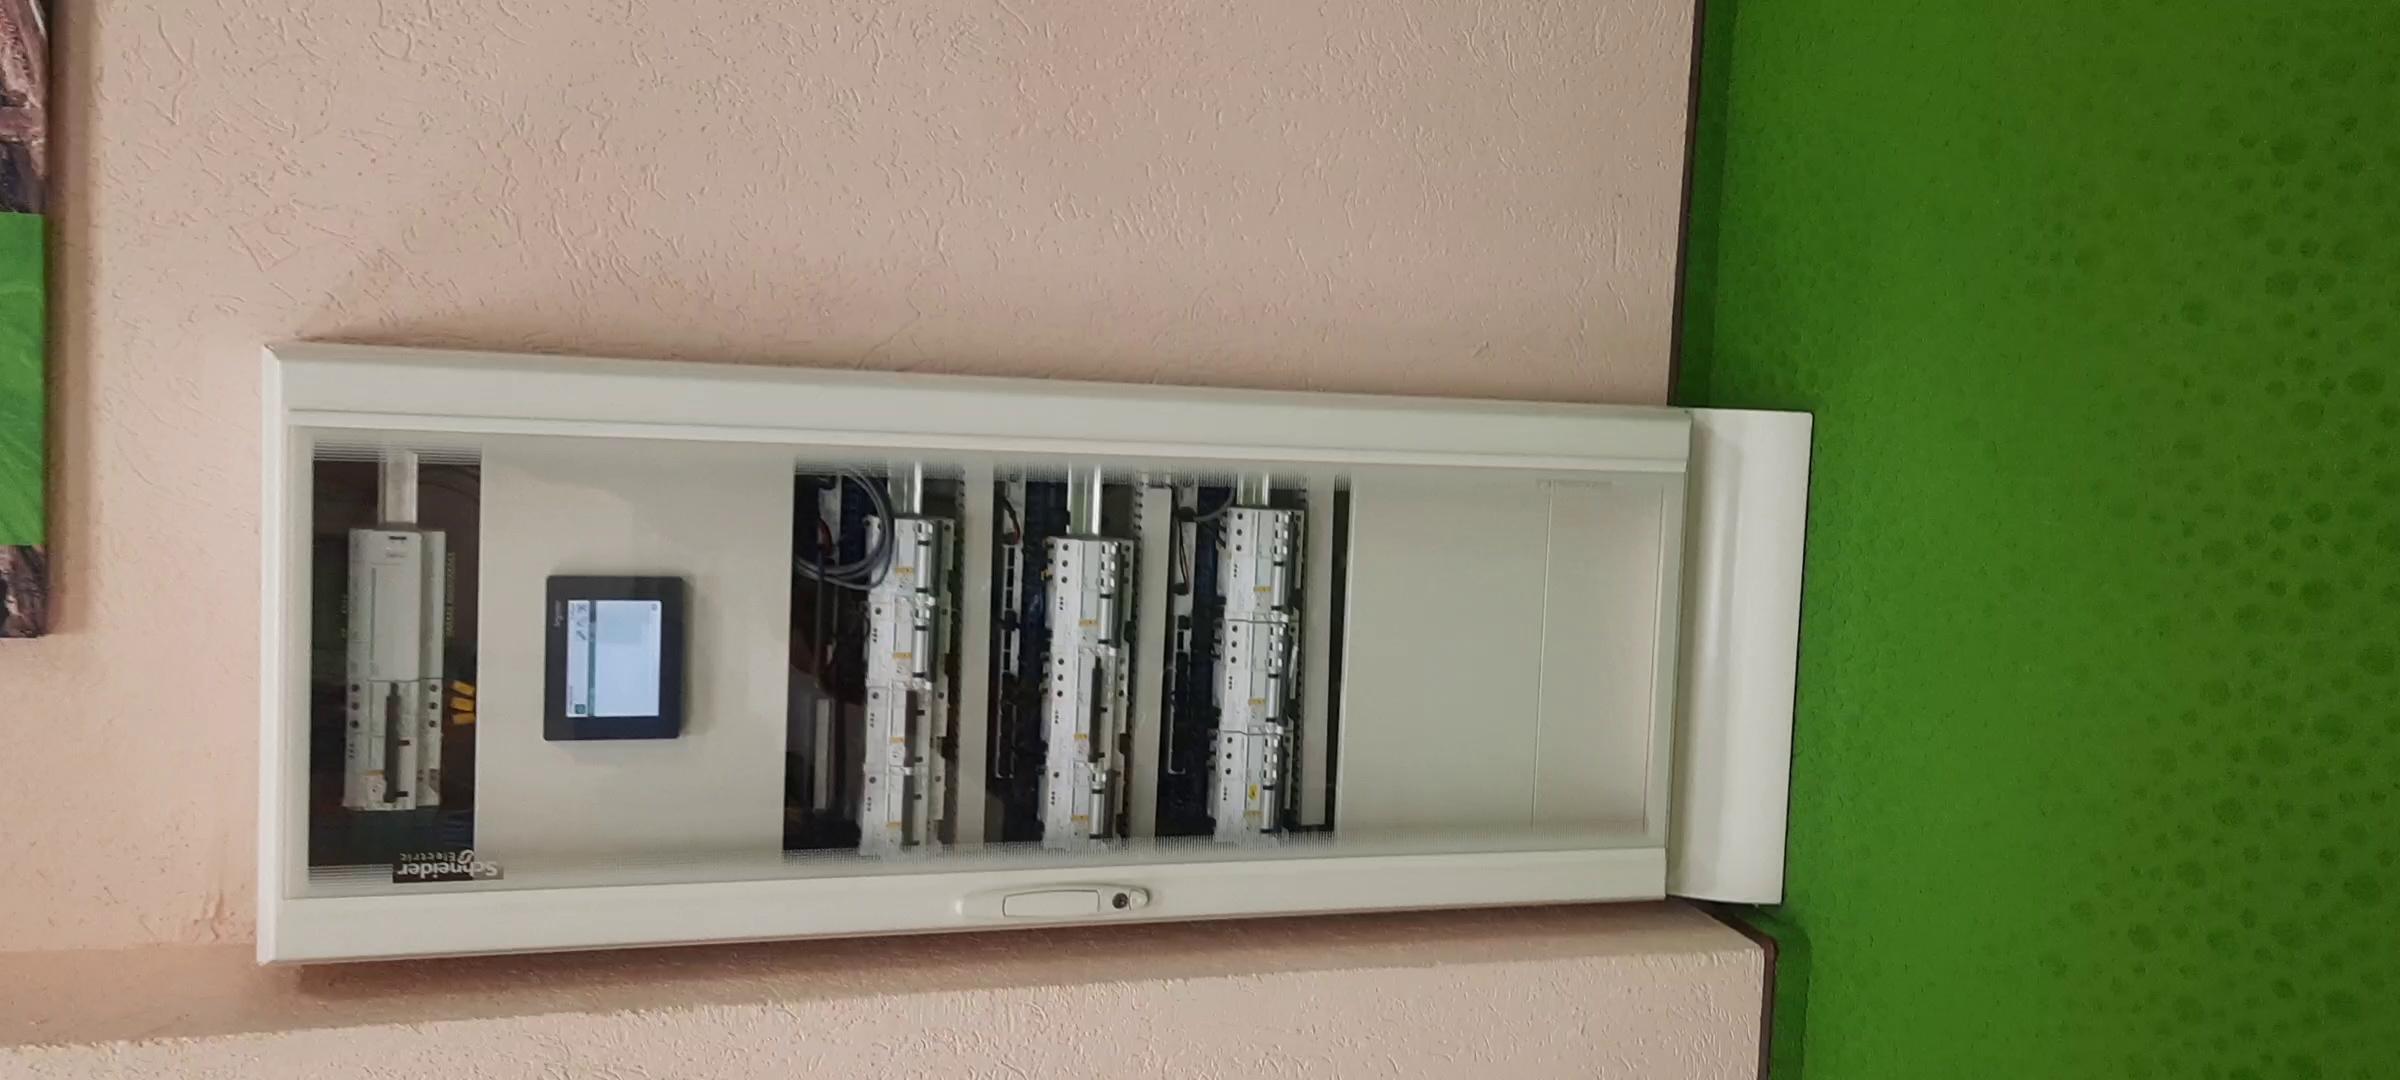smart_stand: (237, 337, 1800, 973)
